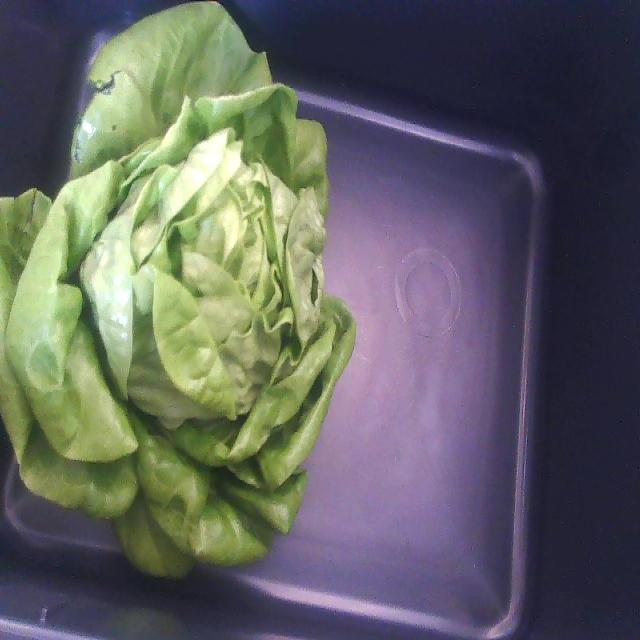lettuce: (0, 5, 355, 577)
